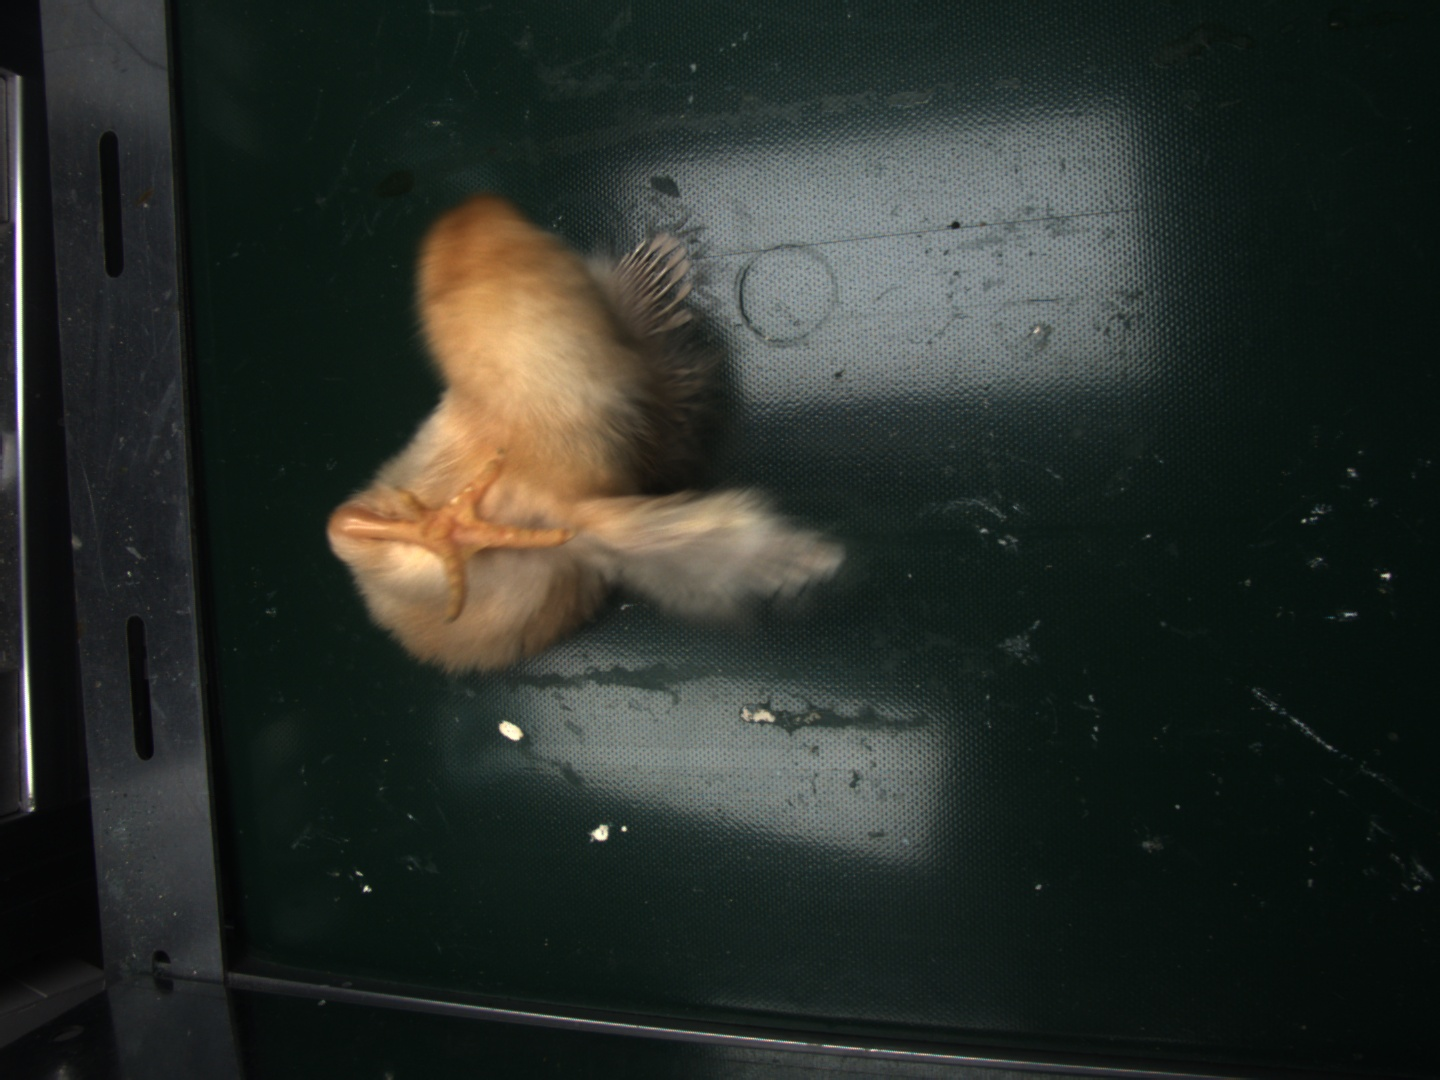female: (622, 233, 691, 323)
